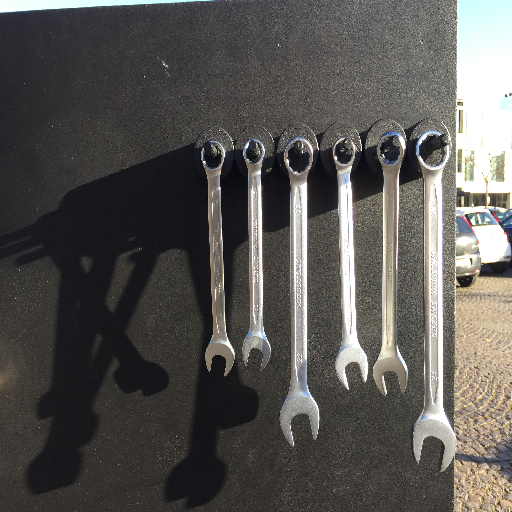bottom: (411, 409, 458, 473), (279, 391, 320, 446), (370, 347, 409, 399), (335, 344, 370, 389), (240, 330, 273, 373), (203, 337, 237, 378)
top: (414, 129, 451, 173), (374, 130, 409, 172), (282, 137, 315, 178), (330, 137, 359, 171), (199, 139, 227, 172), (240, 137, 267, 170)
